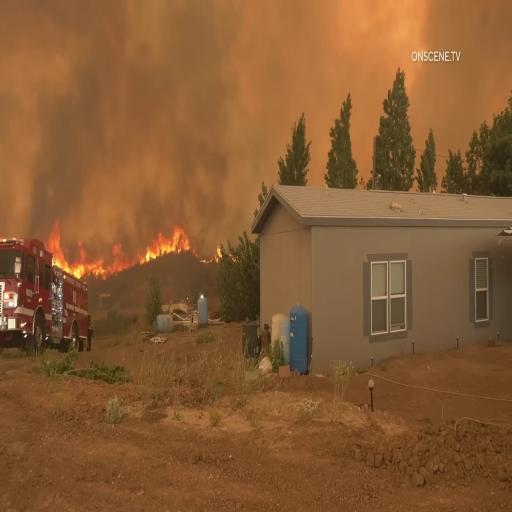fire: (139, 221, 182, 275), (49, 228, 88, 283), (86, 238, 126, 288)
smoke: (179, 101, 225, 225)
